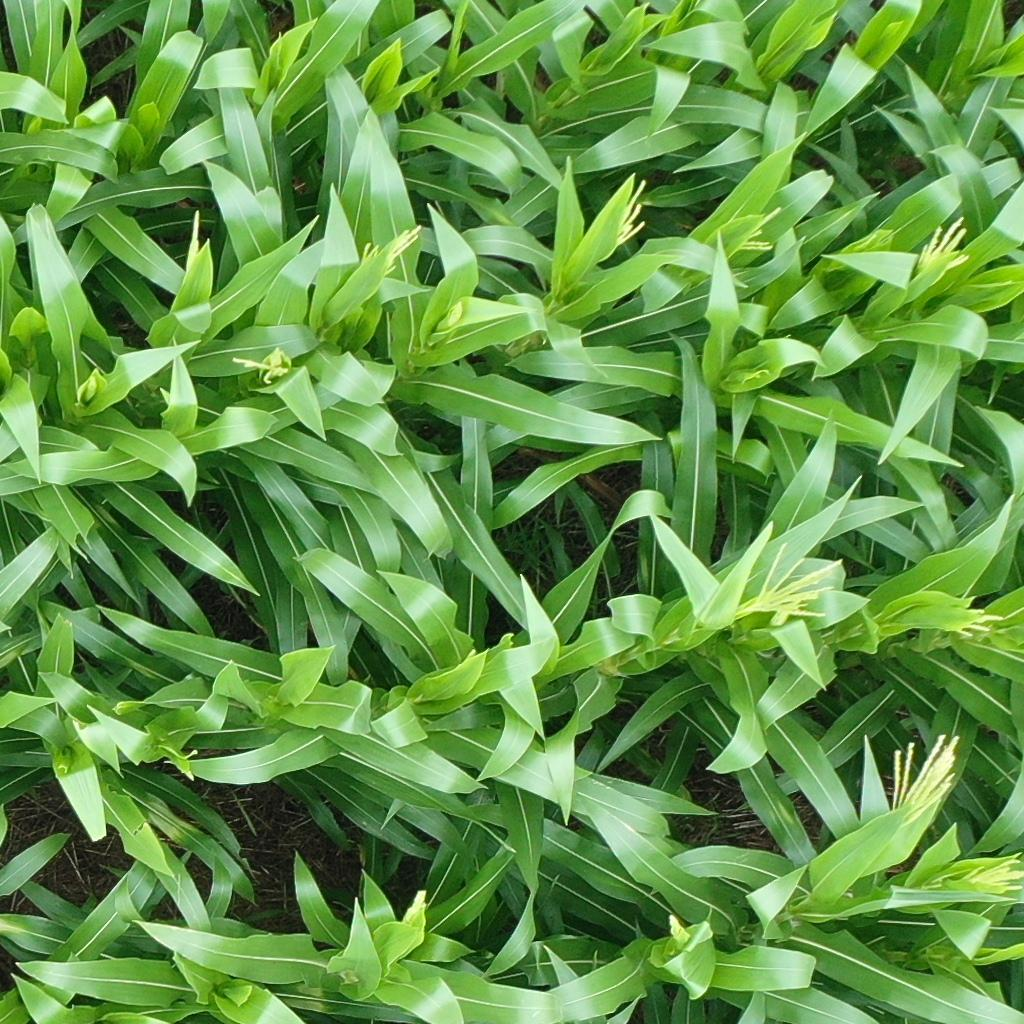Tassel: (735, 538, 846, 627), (892, 735, 961, 814), (962, 849, 1024, 906), (360, 223, 424, 274), (916, 213, 971, 272), (612, 174, 648, 248), (734, 204, 782, 254), (230, 351, 290, 384), (949, 605, 1007, 636), (181, 206, 203, 272), (401, 890, 427, 920), (665, 910, 685, 939)
